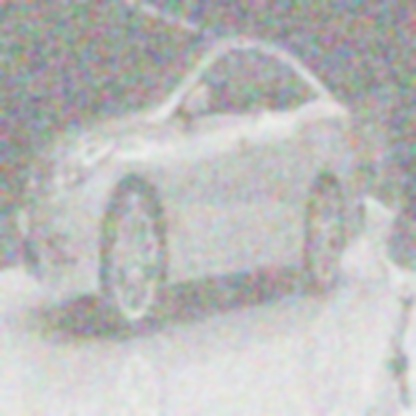Vehicle: (17, 32, 370, 342)
